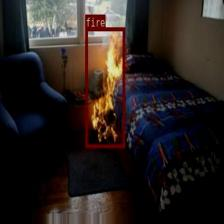fire: (85, 27, 124, 147)
